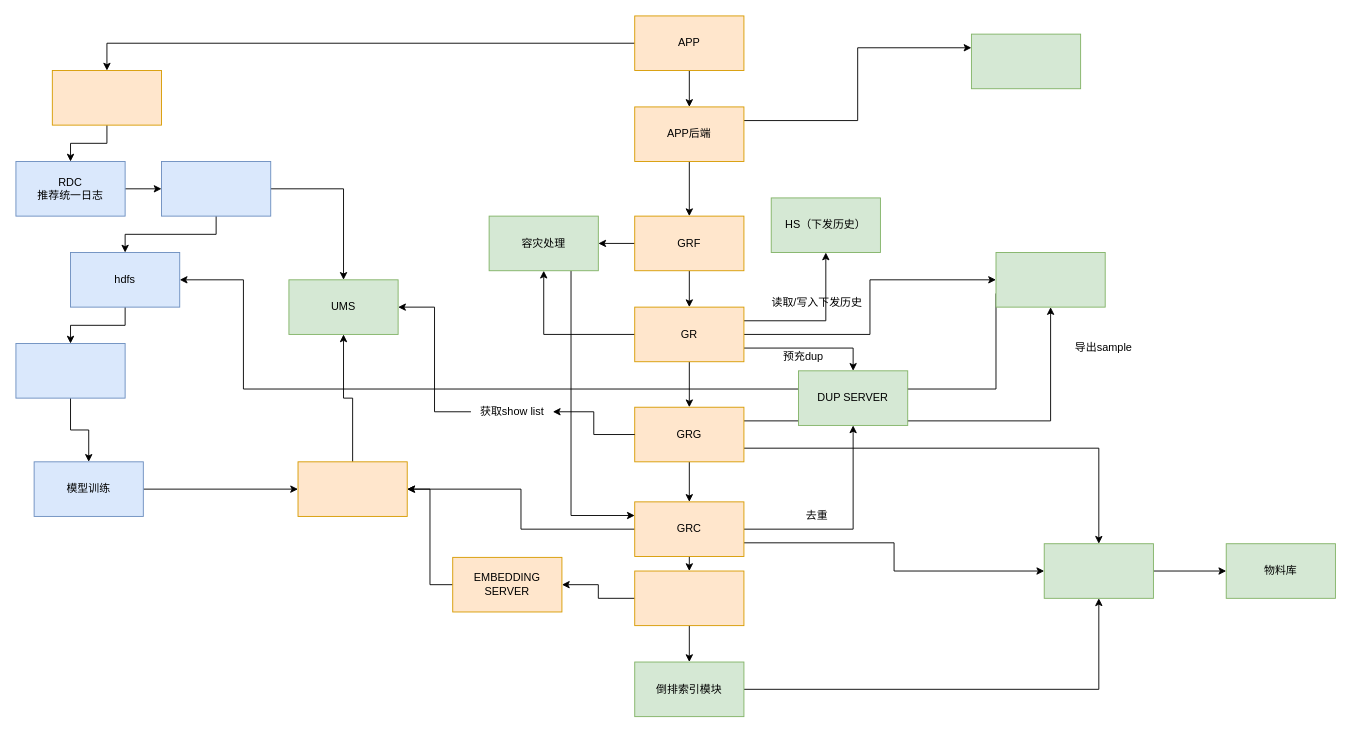
Some shapes in this 1351 by 733 pixel diagram are drawn without their labels. The shapes that lost their labels are listed below. From the top down, each one's centre as x and y in pixels, then its label:
At point 1026,61: "抽样系统（对用户进行划分，赋予唯一sid）".
At point 106,97: "打点服务器".
At point 216,188: "展现日志".
At point 1050,279: "FS".
At point 70,370: "拼接table 导出Sample".
At point 352,488: "RANK在线模块".
At point 1098,570: "gcms 正排服务".
At point 689,598: "召回队列".
